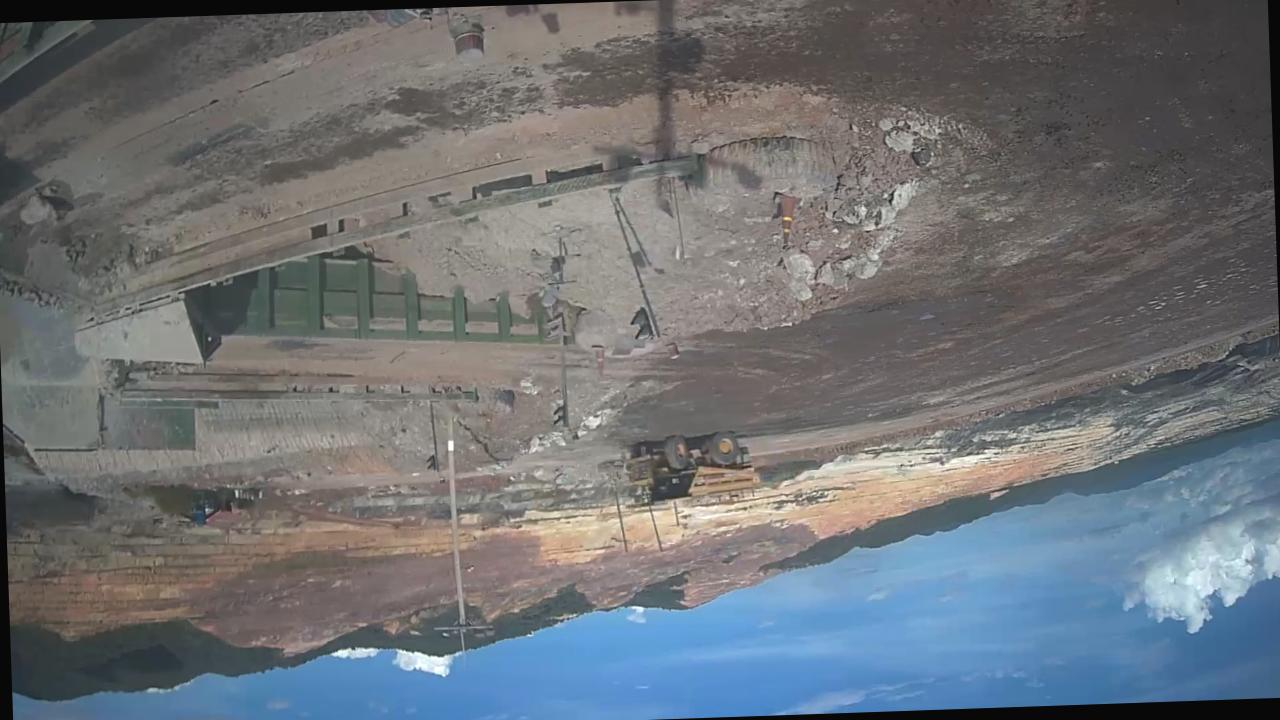mining_truck: (620, 429, 753, 506)
